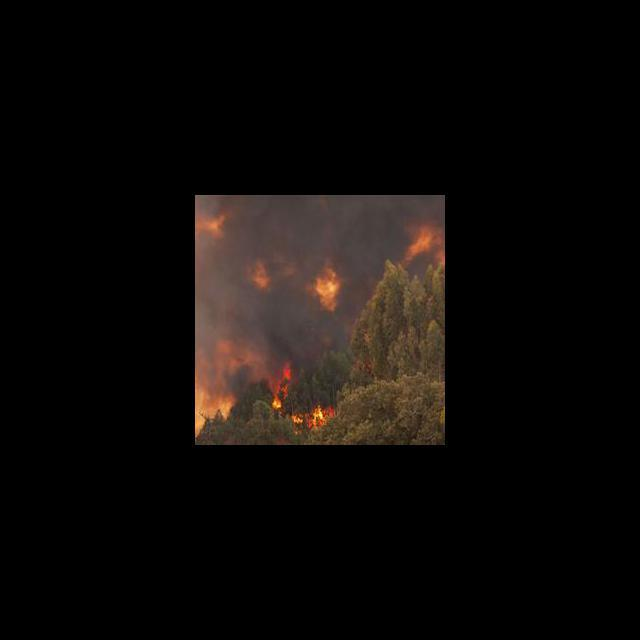Fire: (266, 360, 338, 435)
Smoke: (195, 202, 351, 345)
